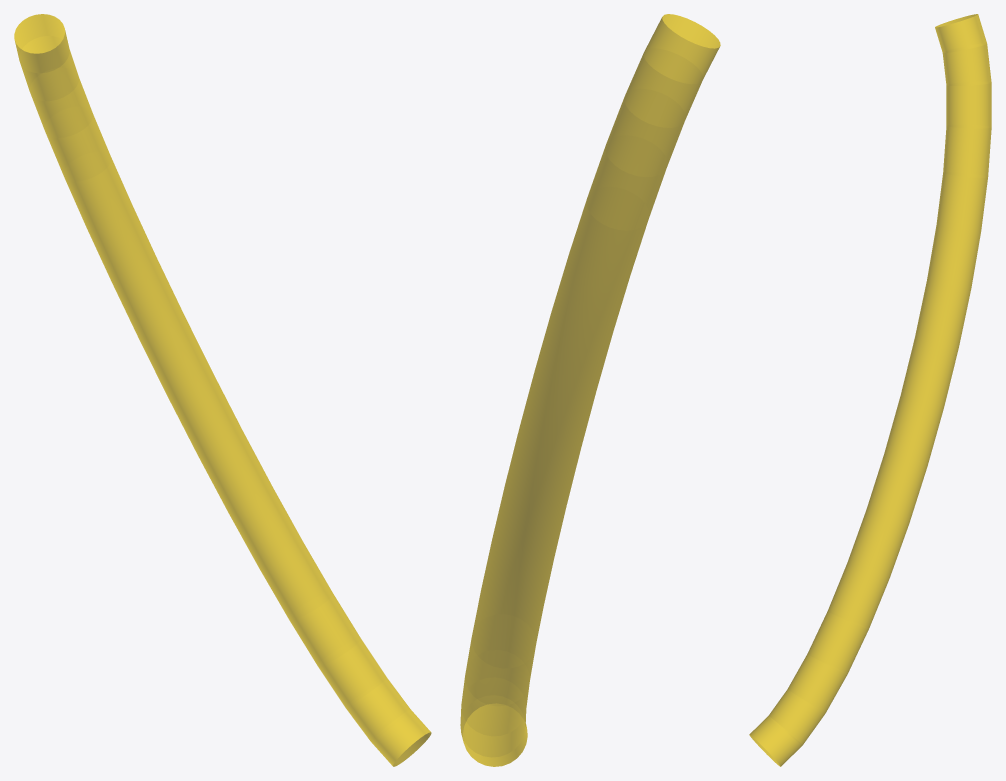
Rendered from Event_27938768_track_65.fbx.
3 renders of one model, left to right at view 1: azimuth 30°, elevation 25°; view 2: azimuth 150°, elevation 25°; view 3: azimuth 270°, elevation 25°, orthographic. The views are drawn at different scales.
Visible parts, largest first — view 1: Model; view 2: Model; view 3: Model.
Boxes of the visible parts, x1,y1,x2,y2 form: Model: (14,14,431,766); Model: (460,14,720,766); Model: (749,14,991,766).
Size of the model in its own units: 0.2741 by 0.625 by 0.2139.
